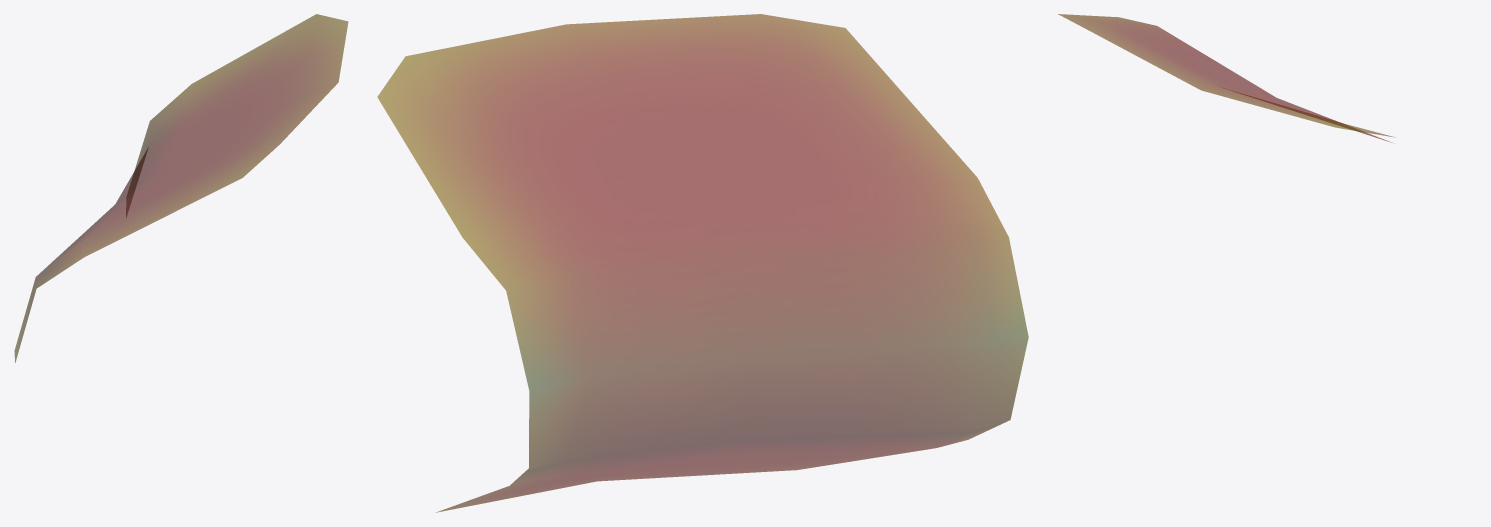
File: Red.gltf
The picture shows the model from 3 angles, left to right: view 1: azimuth 30°, elevation 25°; view 2: azimuth 150°, elevation 25°; view 3: azimuth 270°, elevation 25°; orthographic projection. The views are drawn at different scales.
Visible parts, largest first — view 1: Red; view 2: Red; view 3: Red.
Part boxes in pixels (<box>): Red: <box>14,14,348,362</box>; Red: <box>377,14,1028,512</box>; Red: <box>1058,14,1395,142</box>.
Size of the model in its own units: 0.376 by 0.3112 by 0.2891.
1 material, 1 textured.
